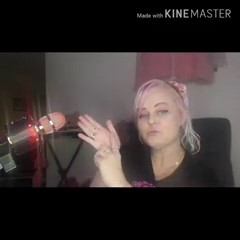L: (71, 110, 126, 189)
